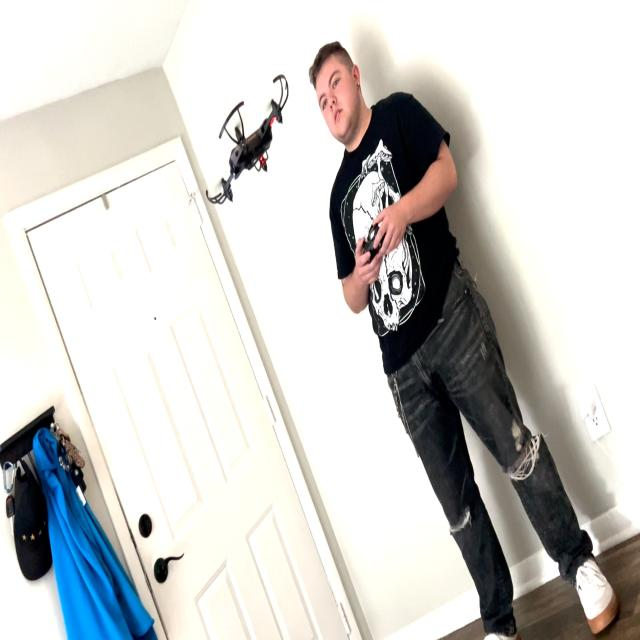drone: (196, 57, 293, 217)
